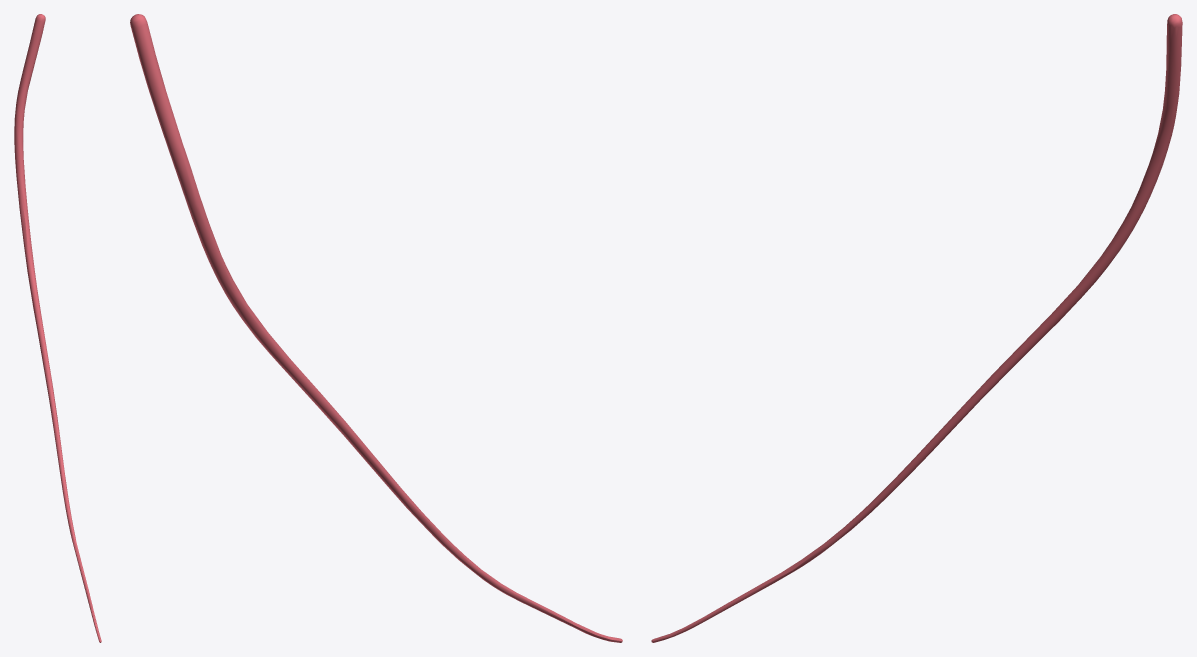
File: fma85112_fj2367.glb
3 renders of one model, left to right at view 1: azimuth 30°, elevation 25°; view 2: azimuth 150°, elevation 25°; view 3: azimuth 270°, elevation 25°, orthographic. The views are drawn at different scales.
Visible parts, largest first — view 1: FMA85112_FJ2367; view 2: FMA85112_FJ2367; view 3: FMA85112_FJ2367.
Boxes of the visible parts, x1=… form: FMA85112_FJ2367: x1=14, y1=14, x2=101, y2=642; FMA85112_FJ2367: x1=130, y1=14, x2=622, y2=642; FMA85112_FJ2367: x1=651, y1=14, x2=1182, y2=642.
Bounding box in the file's own units: 0.0196 × 0.0744 × 0.0504.
